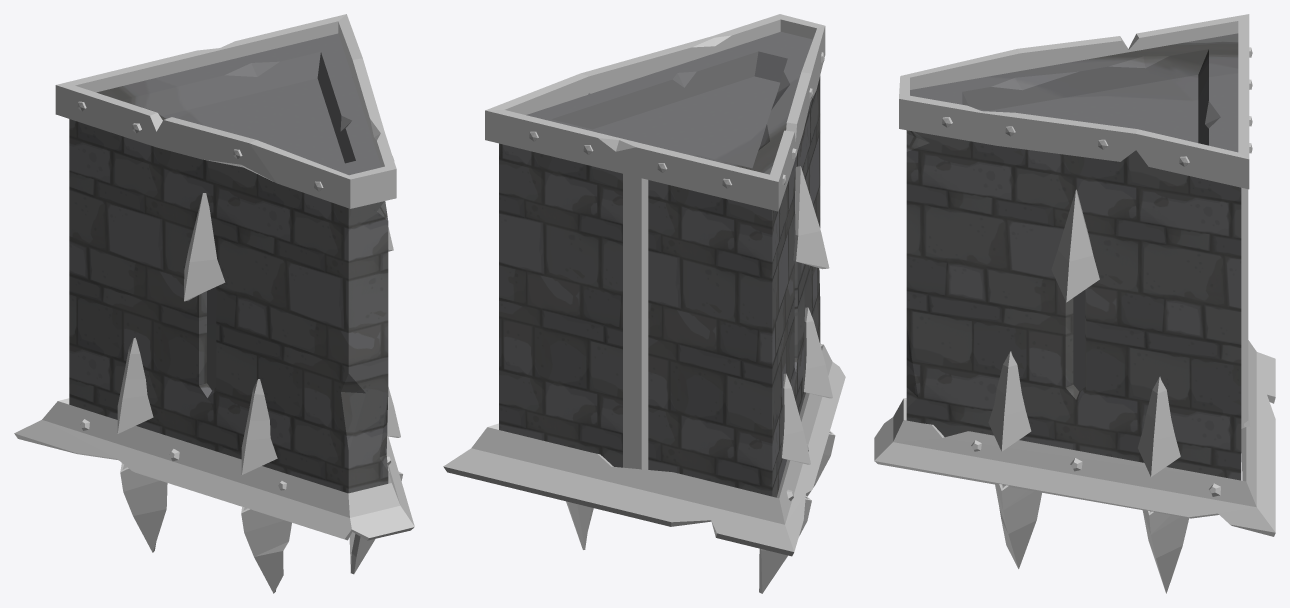
File: SM_Bld_Corner_Tower_03_Alt_01.fbx
The picture shows the model from 3 angles, left to right: view 1: azimuth 30°, elevation 25°; view 2: azimuth 150°, elevation 25°; view 3: azimuth 270°, elevation 25°; orthographic projection. The views are drawn at different scales.
Visible parts, largest first — view 1: SM_Bld_Corner_Tower_03_Alt_01; view 2: SM_Bld_Corner_Tower_03_Alt_01; view 3: SM_Bld_Corner_Tower_03_Alt_01.
Part boxes in pixels (x1,y1,x2,y2): SM_Bld_Corner_Tower_03_Alt_01: (14,14,414,593); SM_Bld_Corner_Tower_03_Alt_01: (443,14,845,593); SM_Bld_Corner_Tower_03_Alt_01: (874,14,1275,593).
Bounding box in the file's own units: 484 × 608 × 472.
